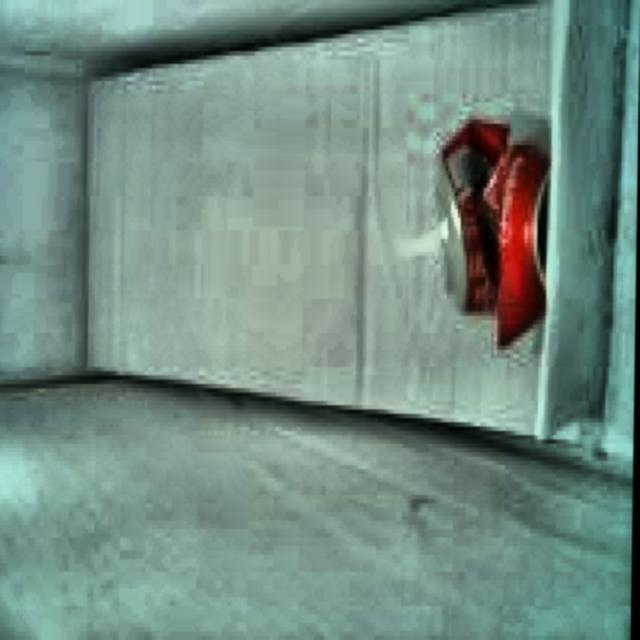can: (435, 97, 558, 352)
